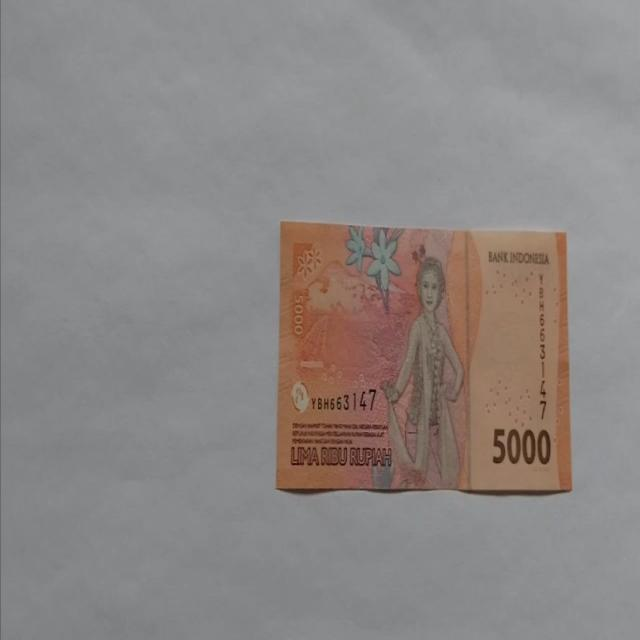lima ribu rupiah: (276, 220, 572, 494), (380, 255, 464, 490)
